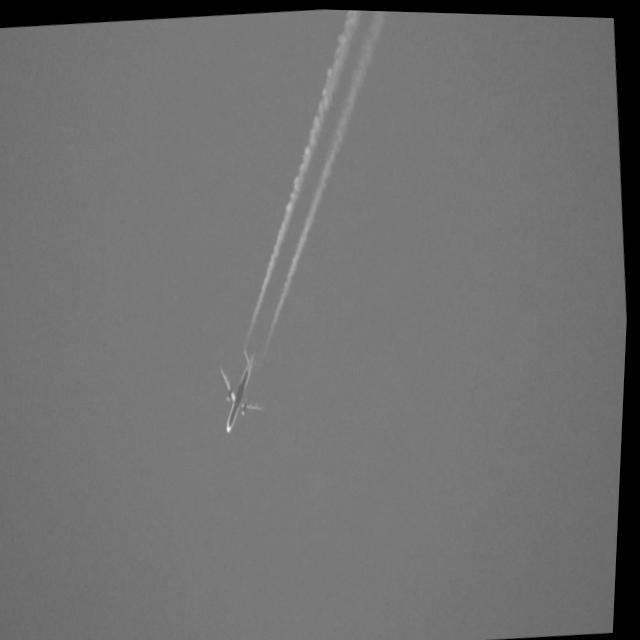aeroplane: (216, 334, 277, 444)
